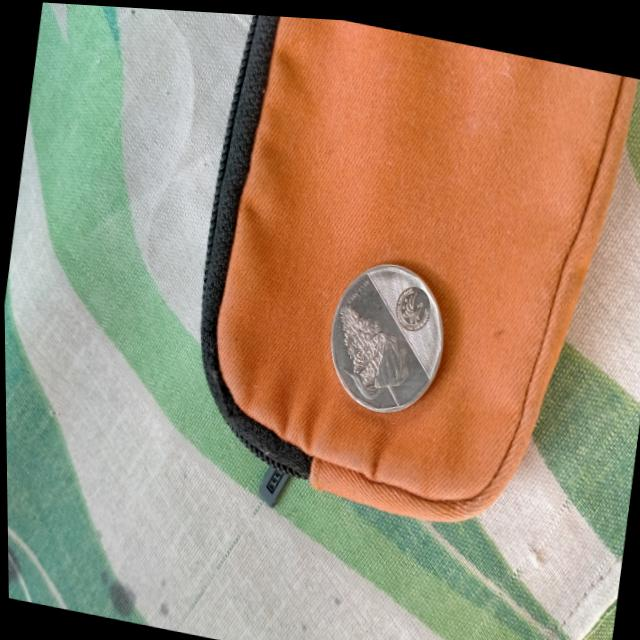10_New_Back: (315, 291, 422, 424)
